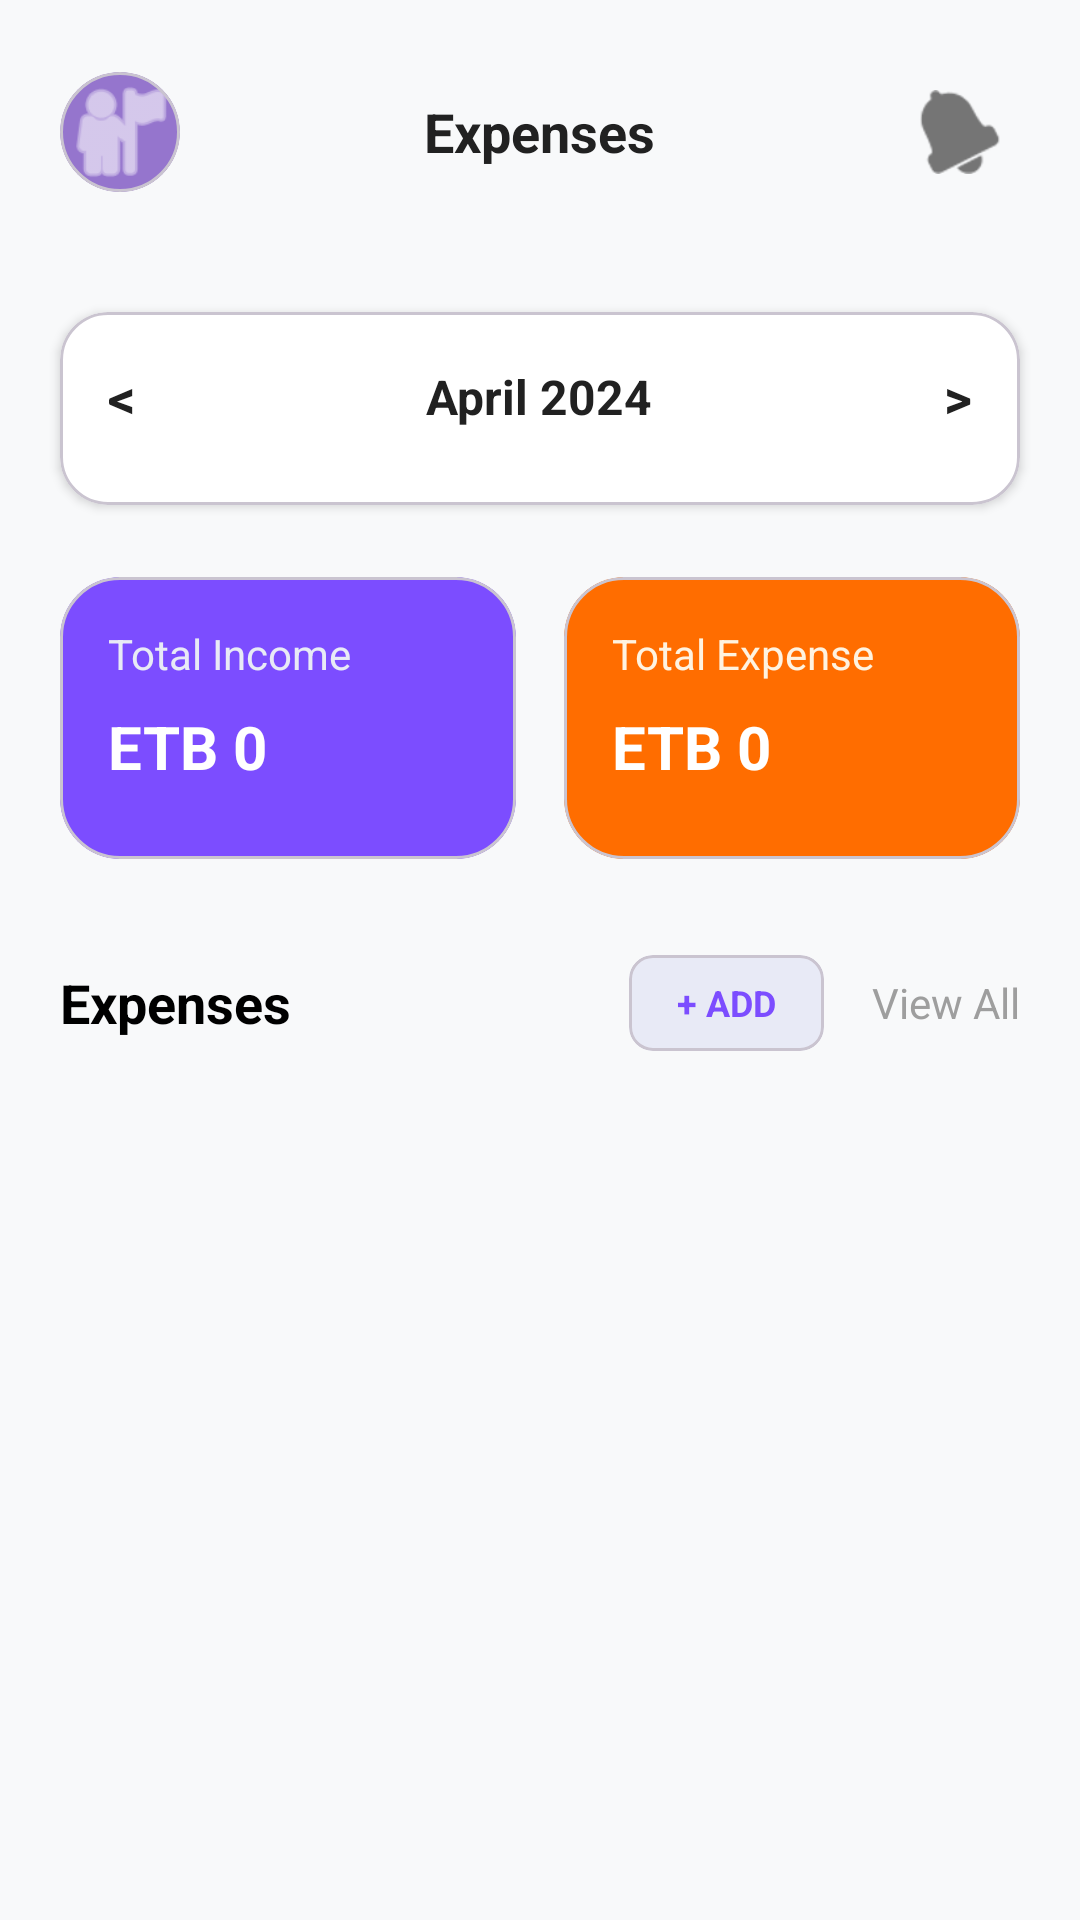

Named icons in this screenshot (1080×1920) and their centers, (x,y):
popup reminder: (960,132)
